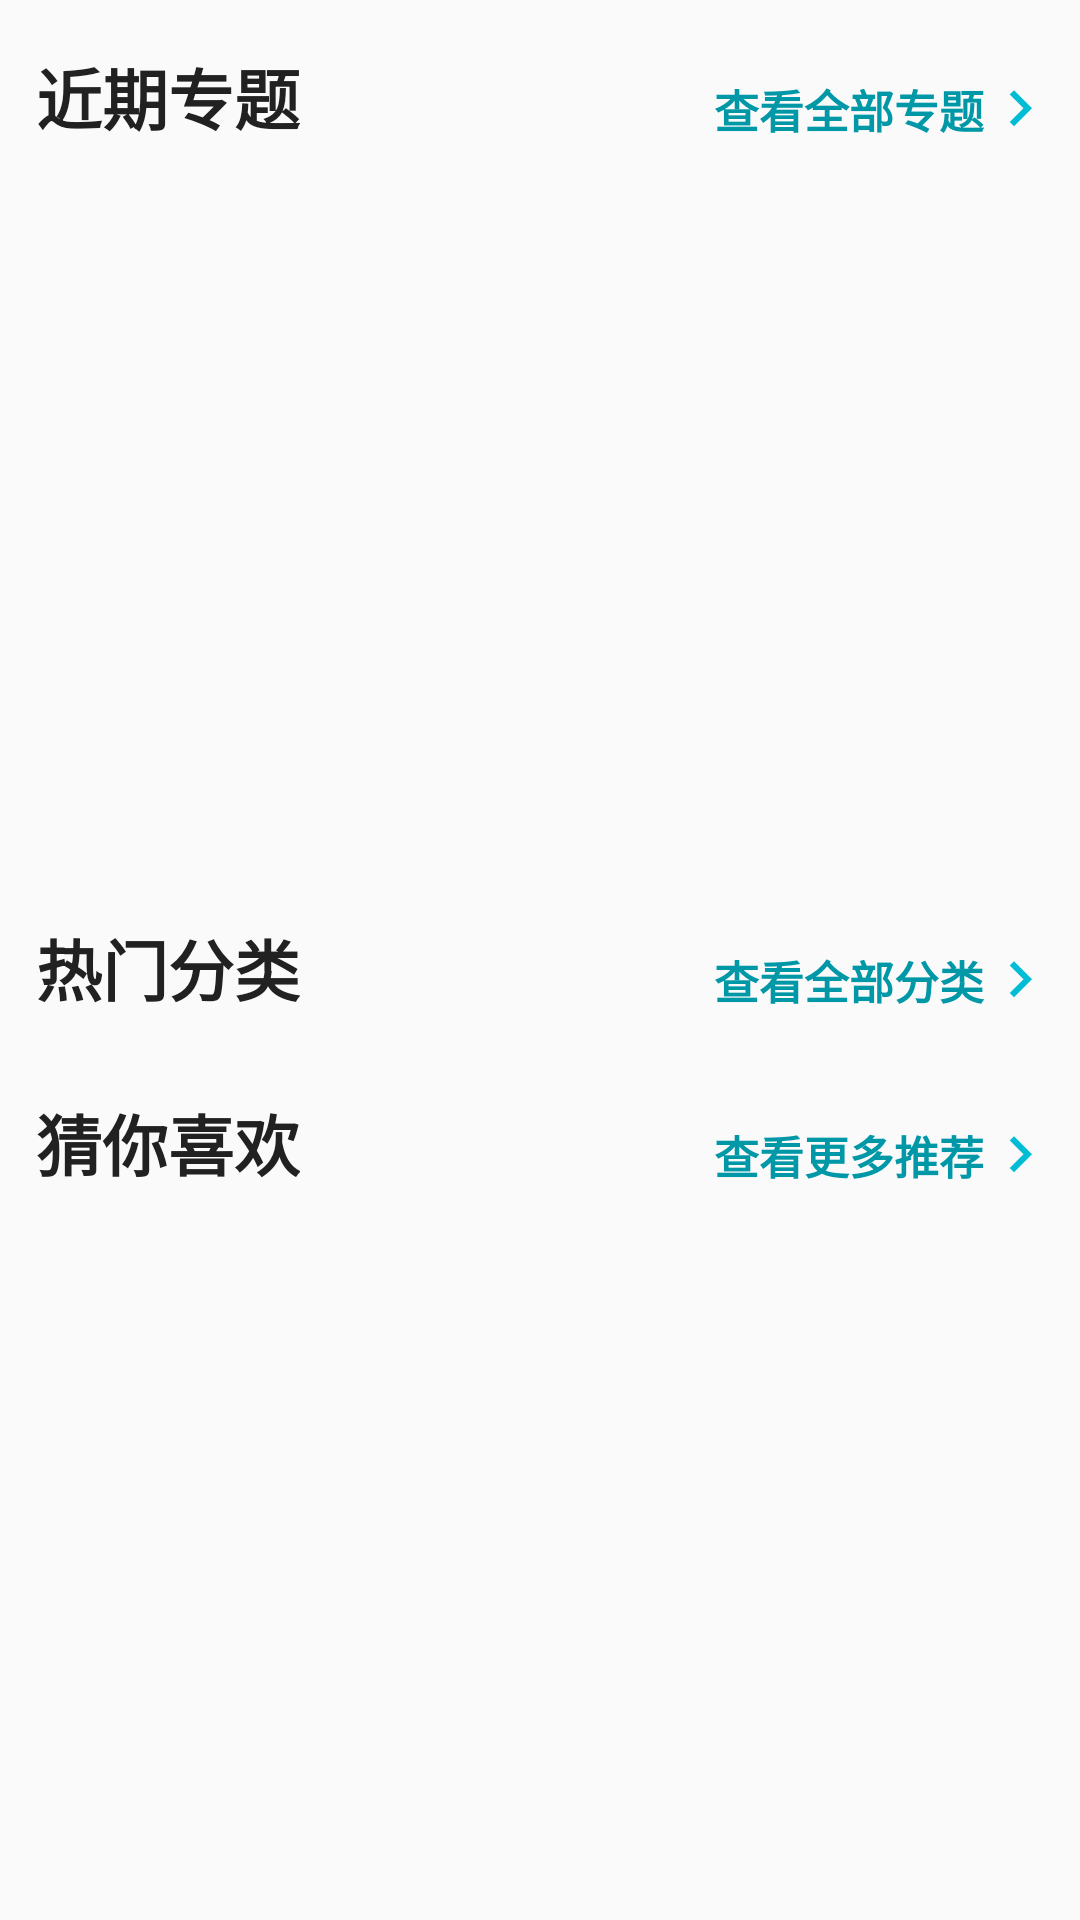

Icons on this 1080px×1920px Android screen, each with the point to tap as point (x, y):
keyboard arrow right cyan: point (1021, 108), point (1021, 979), point (1021, 1154)
